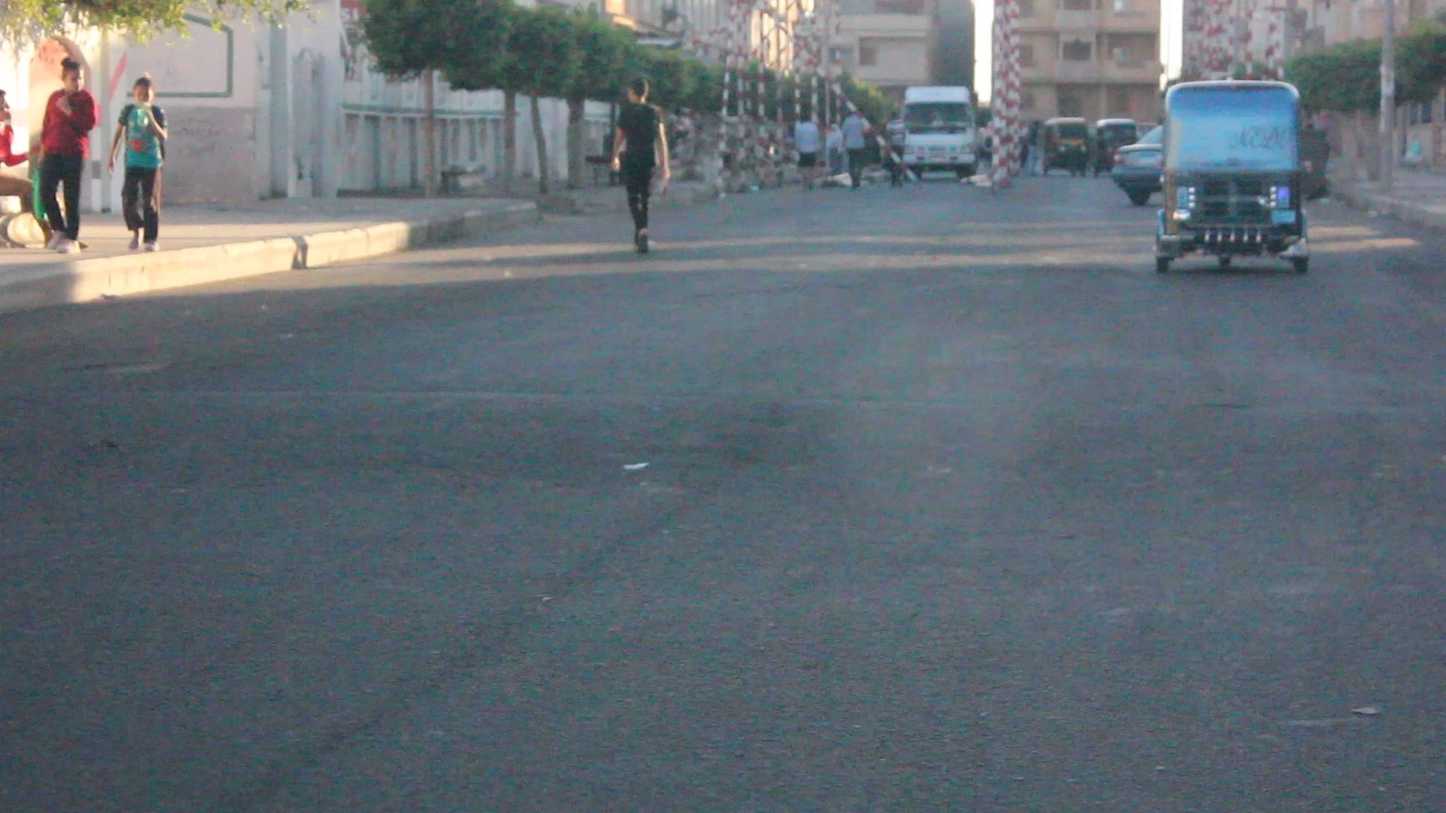Bump: (0, 378, 1446, 521)
